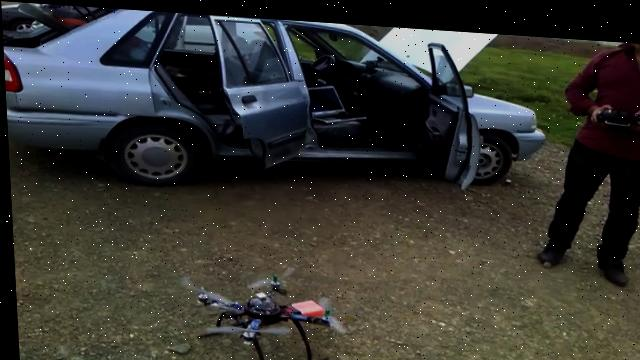drone: (178, 254, 347, 360)
